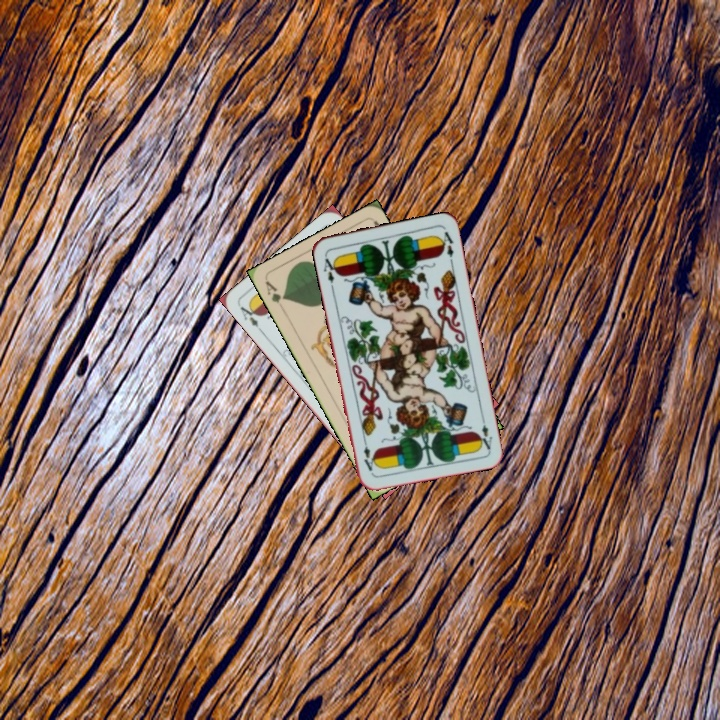EA: (236, 299, 266, 335), (475, 412, 495, 452), (319, 254, 340, 286)
GA: (261, 277, 288, 306)
